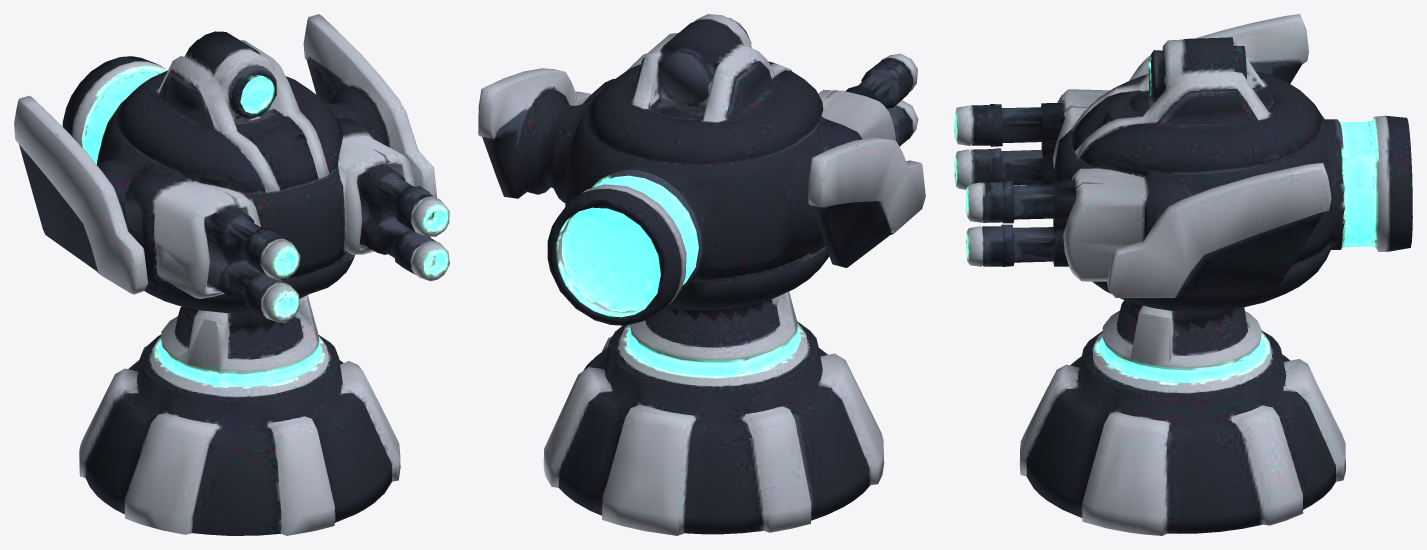
File: warrior-1-tier-3.glb
The picture shows the model from 3 angles, left to right: view 1: azimuth 30°, elevation 25°; view 2: azimuth 150°, elevation 25°; view 3: azimuth 270°, elevation 25°; orthographic projection. The views are drawn at different scales.
Visible parts, largest first — view 1: moving-assembly, fixed-platform; view 2: moving-assembly, fixed-platform; view 3: moving-assembly, fixed-platform.
Part boxes in pixels (x1,y1,x2,y2): moving-assembly: (14,14,449,349); fixed-platform: (79,295,400,535); moving-assembly: (478,14,925,325); fixed-platform: (543,291,884,535); moving-assembly: (954,14,1412,335); fixed-platform: (1019,300,1345,535).
Size of the model in its own units: 0.7056 by 0.8685 by 0.8485.
1 material, 1 textured.
